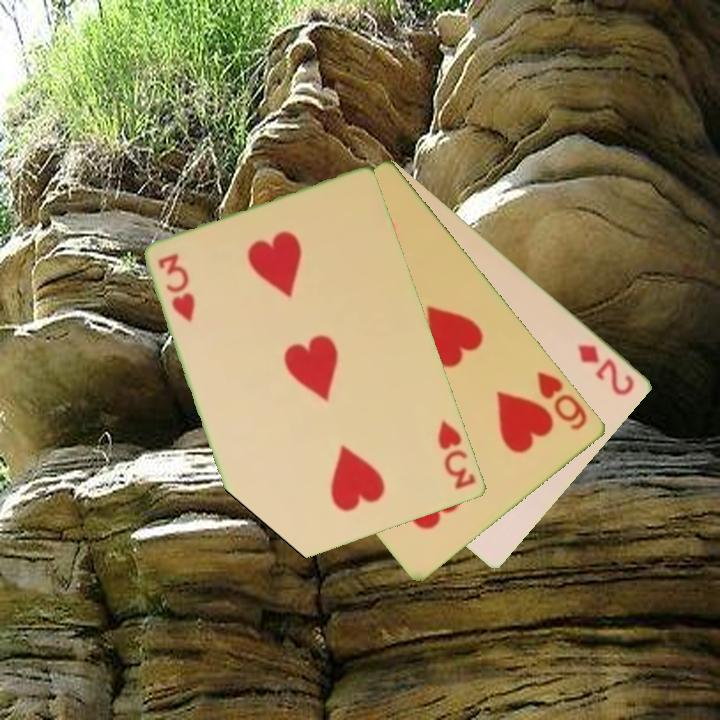2d: (574, 340, 638, 399)
3h: (435, 417, 480, 493), (155, 250, 199, 325)
6h: (534, 368, 591, 433)
